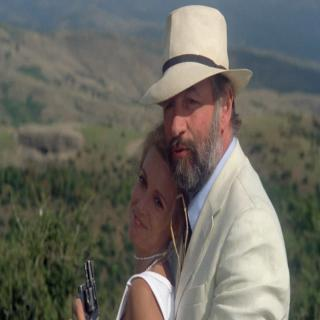gun: (63, 260, 109, 320)
